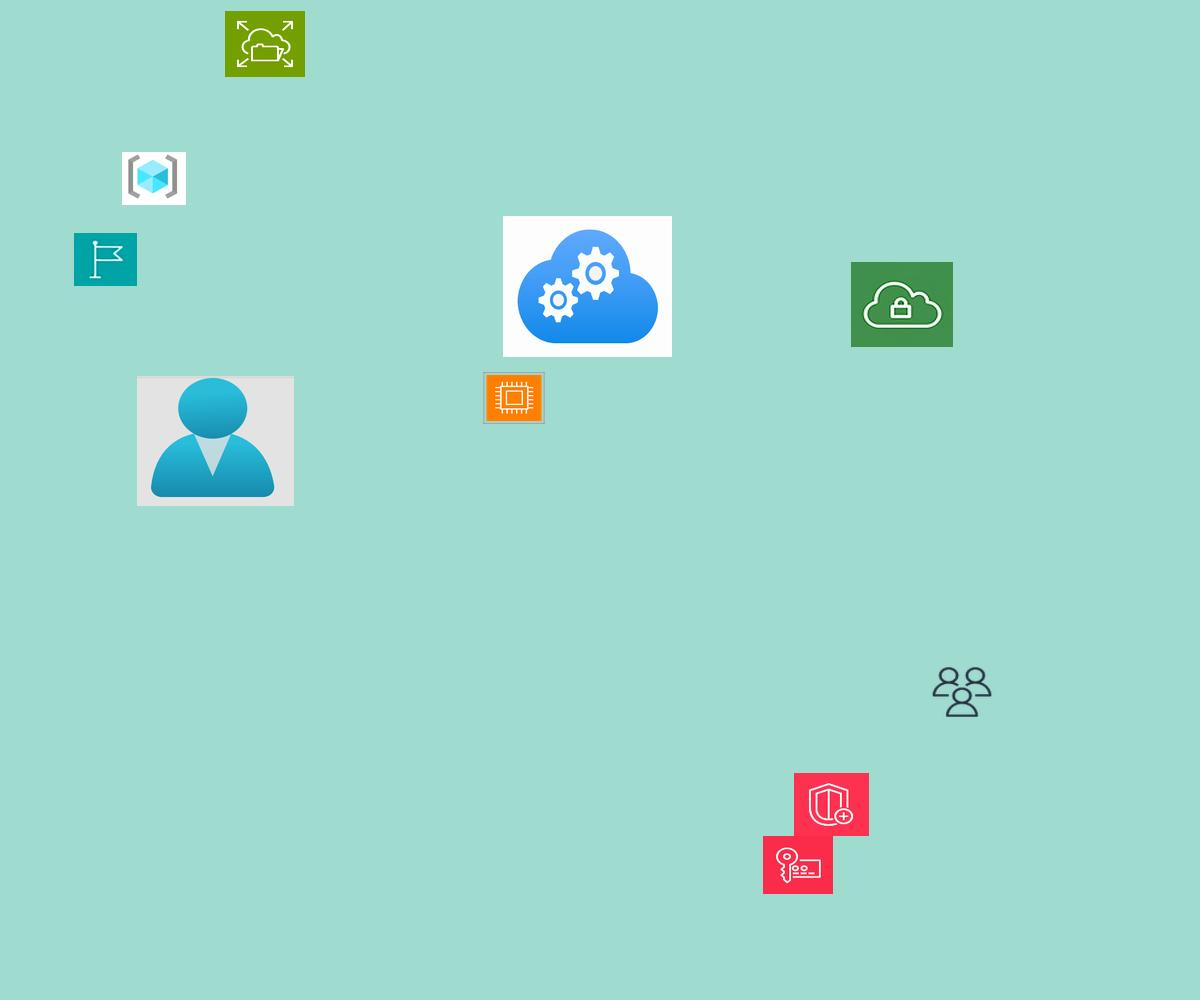AWS-Category_Compute: (483, 372, 545, 424)
AWS-EFS: (225, 11, 305, 77)
AWS-Key-Management-Service: (763, 836, 833, 894)
AWS-Private_vpc: (851, 262, 953, 347)
AWS-Region: (74, 233, 137, 286)
AWS-Res_Users: (930, 665, 994, 719)
AWS-Shield: (794, 773, 869, 836)
Azure_cloud_services: (503, 216, 672, 357)
Azure_resource_group: (122, 152, 186, 205)
Azure_users: (137, 376, 294, 506)
